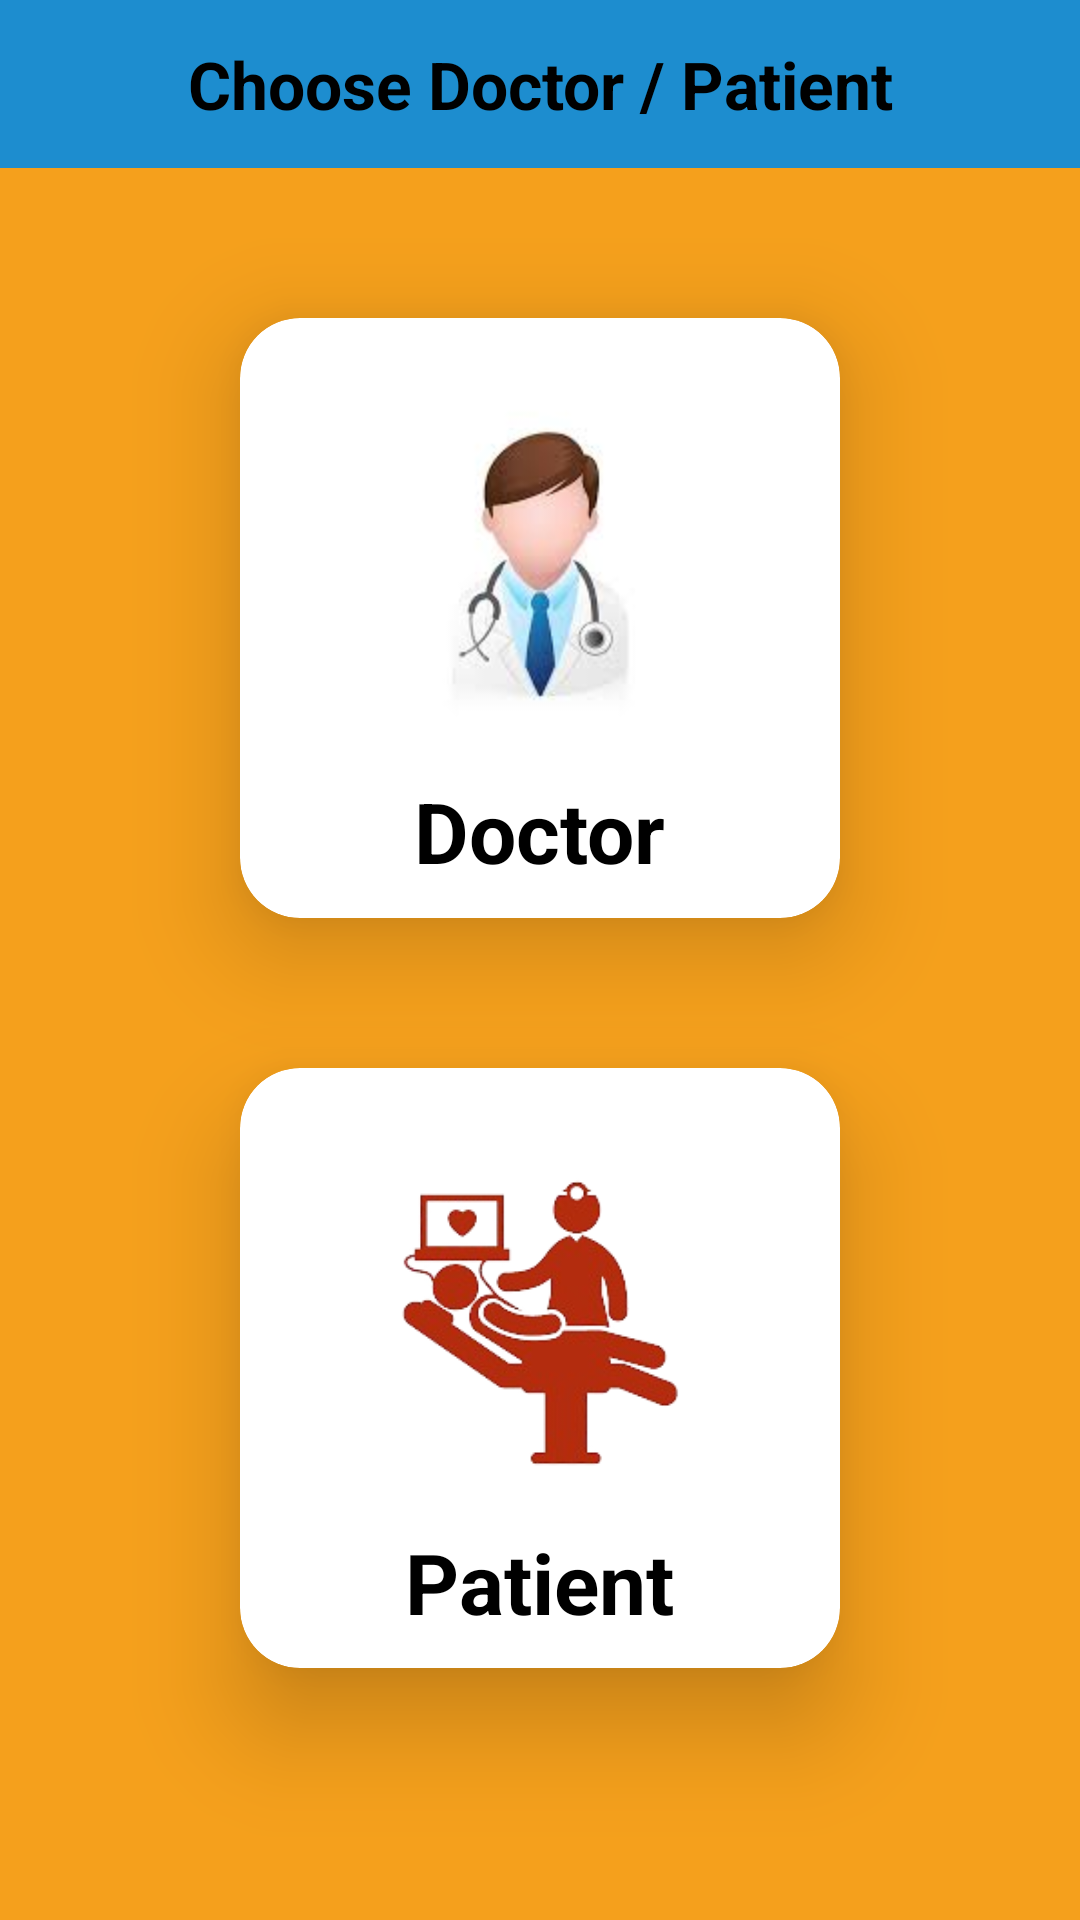

Icon click points for this 1080x1920 phone screenshot, format (x=x, y=y):
doc: (x=541, y=565)
